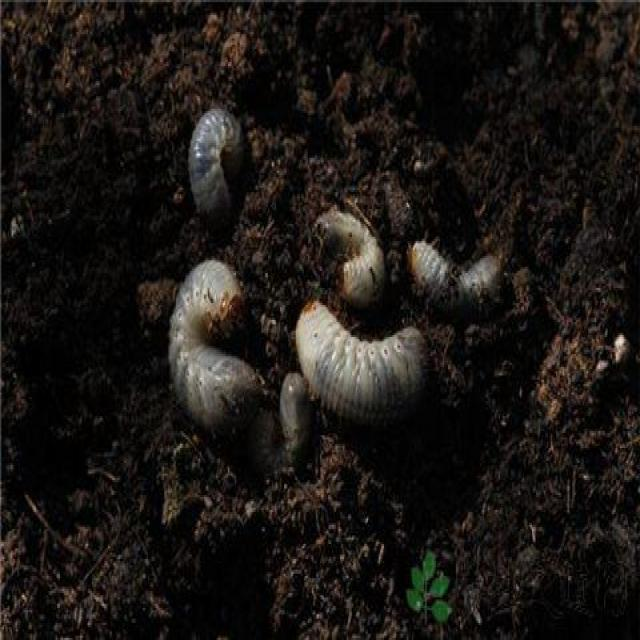Grub-Adult-: (162, 248, 258, 454), (288, 293, 431, 425), (403, 232, 512, 310), (167, 105, 247, 211), (310, 202, 387, 304)
